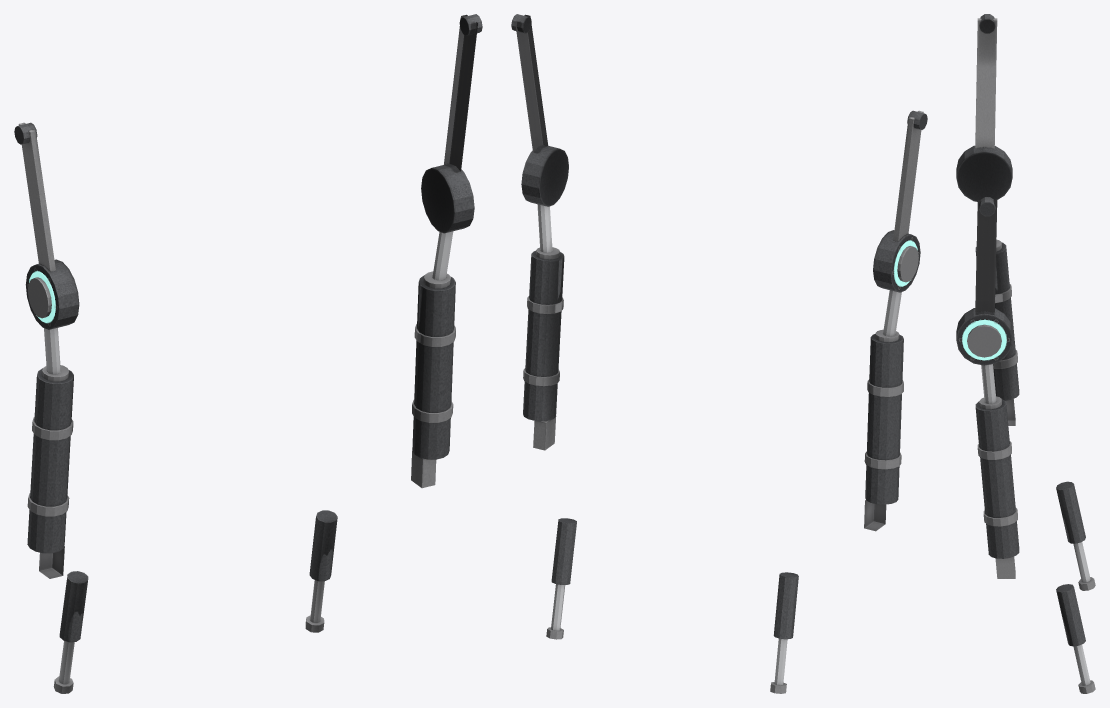
Rendered from kd2_kinetic_dampers.gltf.
3 renders of one model, left to right at view 1: azimuth 30°, elevation 25°; view 2: azimuth 150°, elevation 25°; view 3: azimuth 270°, elevation 25°, orthographic. The views are drawn at different scales.
Parts seen in each view (by area): view 1: B_shin_L__kd2_kinetic_dampers, B_shin_R__kd2_kinetic_dampers, B_thigh_L__kd2_kinetic_dampers, B_thigh_R__kd2_kinetic_dampers; view 2: B_shin_L__kd2_kinetic_dampers, B_shin_R__kd2_kinetic_dampers, B_thigh_L__kd2_kinetic_dampers, B_thigh_R__kd2_kinetic_dampers; view 3: B_shin_L__kd2_kinetic_dampers, B_shin_R__kd2_kinetic_dampers, B_thigh_R__kd2_kinetic_dampers, B_thigh_L__kd2_kinetic_dampers.
Part boxes in pixels (<box>): B_shin_L__kd2_kinetic_dampers: <box>305,163,474,632</box>; B_shin_R__kd2_kinetic_dampers: <box>25,259,88,693</box>; B_thigh_L__kd2_kinetic_dampers: <box>444,14,482,171</box>; B_thigh_R__kd2_kinetic_dampers: <box>14,122,55,271</box>; B_shin_L__kd2_kinetic_dampers: <box>521,145,576,639</box>; B_shin_R__kd2_kinetic_dampers: <box>770,230,920,693</box>; B_thigh_L__kd2_kinetic_dampers: <box>511,14,548,152</box>; B_thigh_R__kd2_kinetic_dampers: <box>893,110,927,241</box>; B_shin_L__kd2_kinetic_dampers: <box>956,308,1095,693</box>; B_shin_R__kd2_kinetic_dampers: <box>956,145,1095,590</box>; B_thigh_R__kd2_kinetic_dampers: <box>975,14,997,148</box>; B_thigh_L__kd2_kinetic_dampers: <box>975,197,997,312</box>.
Size of the model in its own units: 0.4107 by 0.5411 by 0.1285.
Materials: 1 (1 with a texture image).
